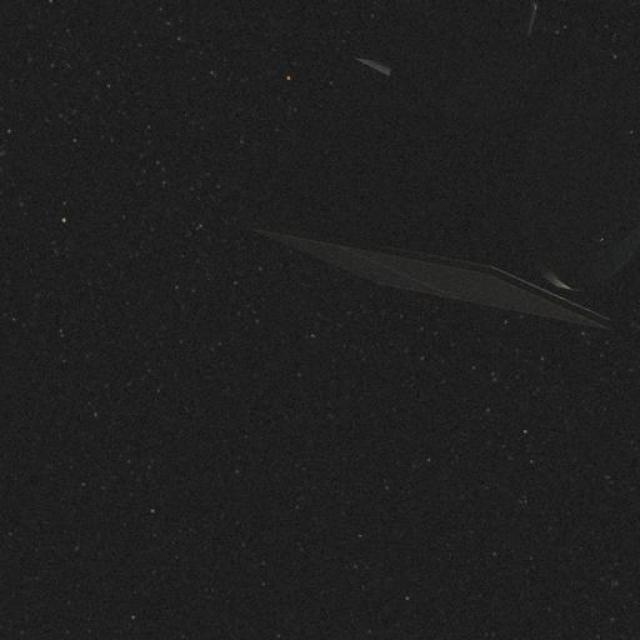cheops: (259, 26, 640, 300)
